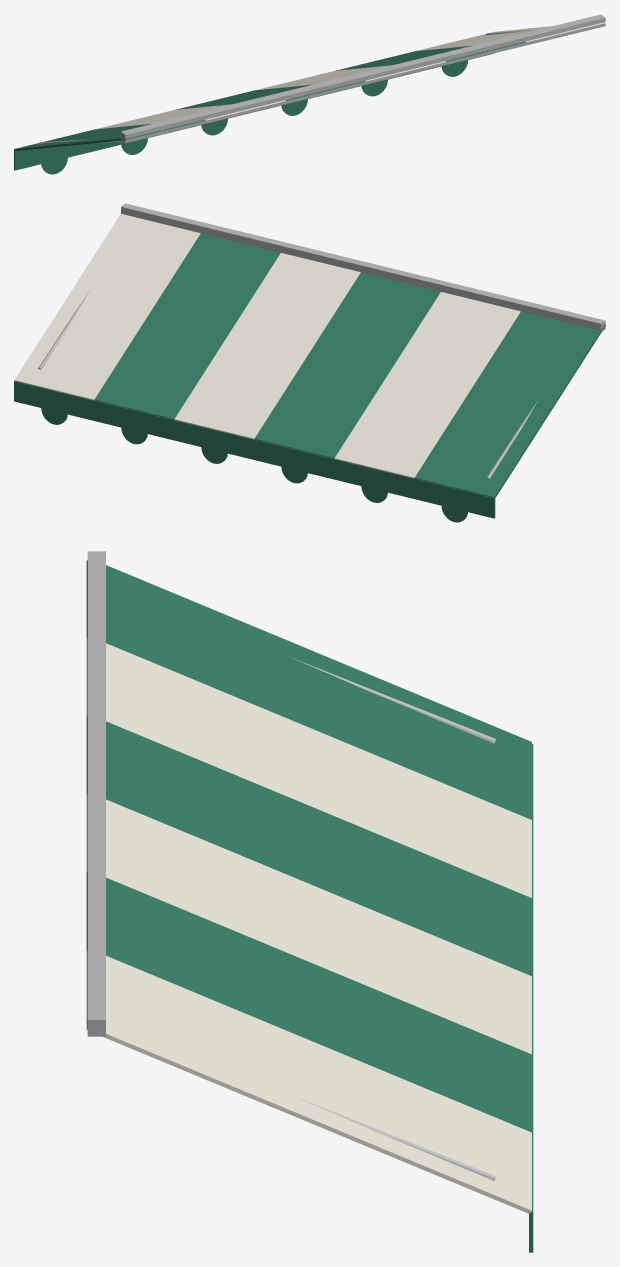
File: awning.glb
3 renders of one model, top to bottom at view 1: azimuth 30°, elevation 25°; view 2: azimuth 150°, elevation 25°; view 3: azimuth 270°, elevation 25°, orthographic. The views are drawn at different scales.
Visible parts, largest first — view 1: awning; view 2: awning; view 3: awning.
Part boxes in pixels (bbox=[...]): awning: bbox=[14, 14, 605, 174]; awning: bbox=[14, 203, 605, 522]; awning: bbox=[86, 551, 533, 1252].
Bounding box in the file's own units: 3 × 0.775 × 1.21.
